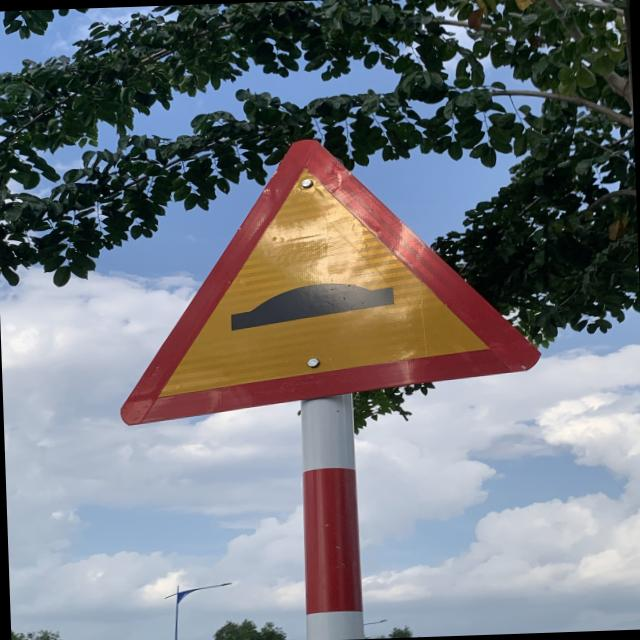Duong_Cong_Ben_Phai: (108, 124, 542, 436)
